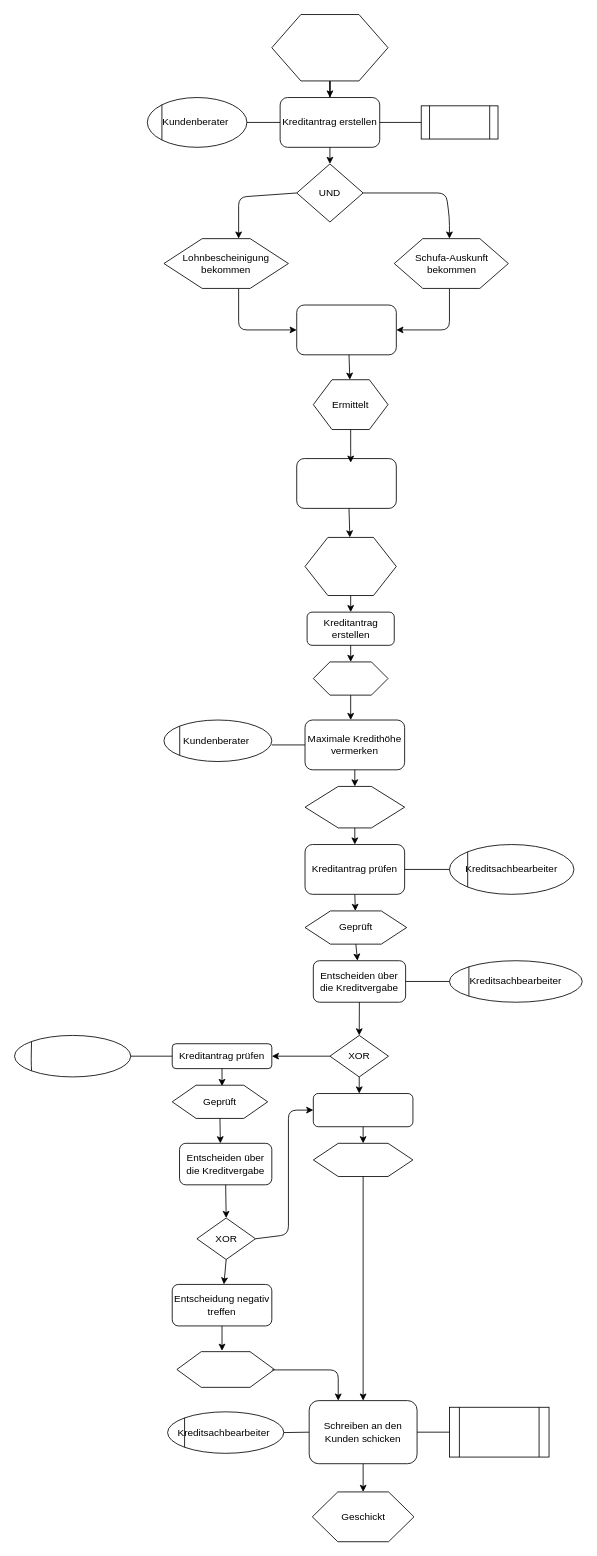
The diagram is 597 pixels wide and 1556 high, and some of its shapes have lost their labels. The centre of each missing label's shape, as x and y in pixels:
"Bestimmt" goes at (x=350, y=566).
"Entscheidung positiv treffen" goes at (x=362, y=1110).
"Ermittleln die Höhe des pfändbaren Gehalts" goes at (x=346, y=329).
"Erstellt" goes at (x=350, y=678).
"Kreditantrag" goes at (x=459, y=122).
"Kreditwunsch entgegengenommen" goes at (x=329, y=47).
"Leiter der Kreditabteilung" goes at (x=72, y=1056).
"Maximale Kredithöhe bestimmen" goes at (x=346, y=483).
"Negativ getroffen" goes at (x=225, y=1369).
"Positiv getroffen" goes at (x=362, y=1159).
"Schreiben über die Gewährung oder Ablehnung des Kredits" goes at (x=499, y=1431).
"Vermerkt" goes at (x=354, y=807).
